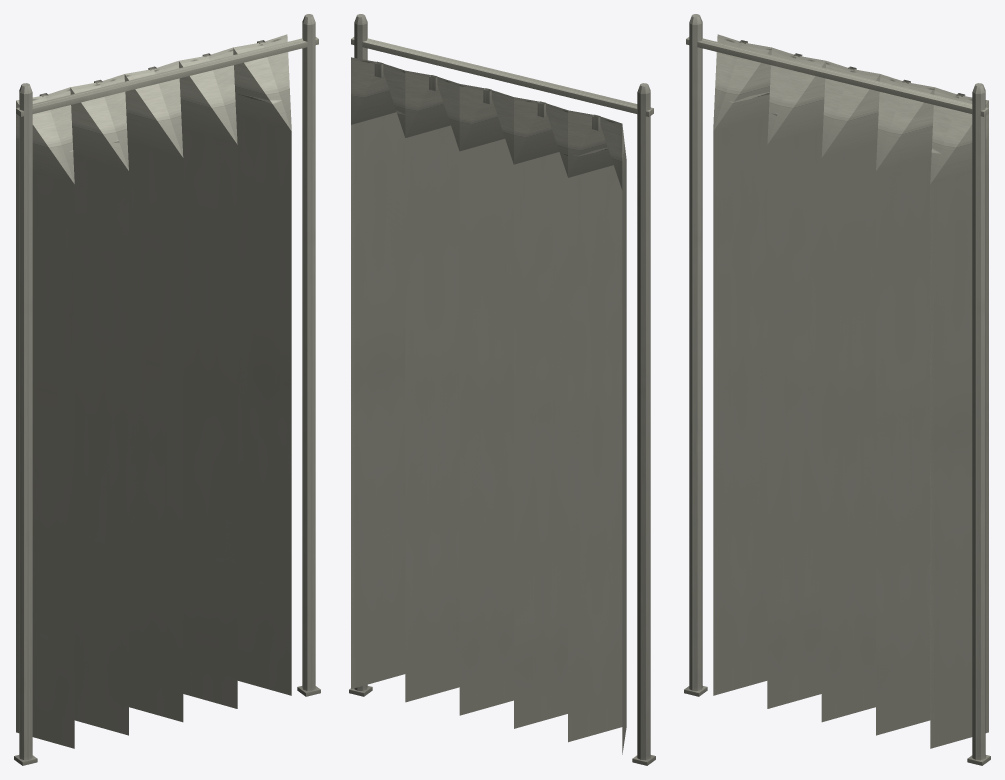
File: pool_curtain_straight.glb
The picture shows the model from 3 angles, left to right: view 1: azimuth 30°, elevation 25°; view 2: azimuth 150°, elevation 25°; view 3: azimuth 330°, elevation 25°; orthographic projection.
Parts seen in each view (by area): view 1: core_pool_curtain_straight; view 2: core_pool_curtain_straight; view 3: core_pool_curtain_straight.
Part boxes in pixels (left/top/right/bottom): core_pool_curtain_straight: left=14, top=14, right=320, bottom=765; core_pool_curtain_straight: left=349, top=14, right=655, bottom=765; core_pool_curtain_straight: left=684, top=14, right=990, bottom=765.
Bounding box in the file's own units: 1.2 × 2.6 × 0.221.
1 material, 1 textured.
